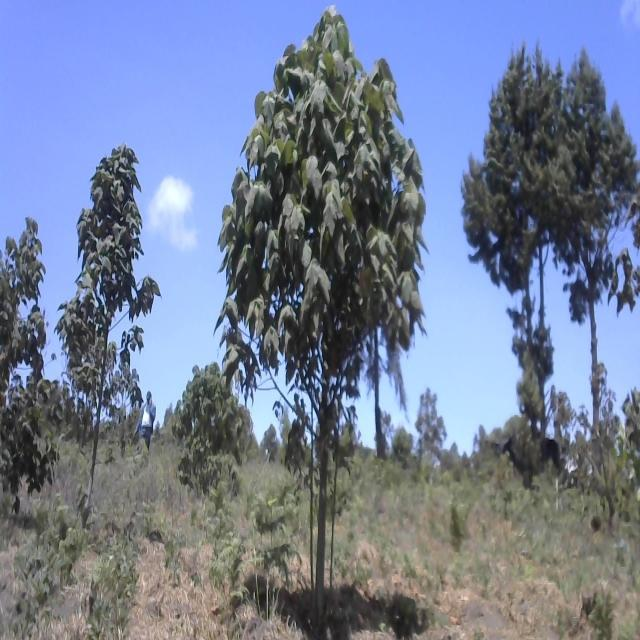cedrus: (461, 30, 566, 482), (557, 30, 640, 361)
other: (216, 7, 440, 640), (54, 114, 165, 546), (0, 214, 50, 496)
